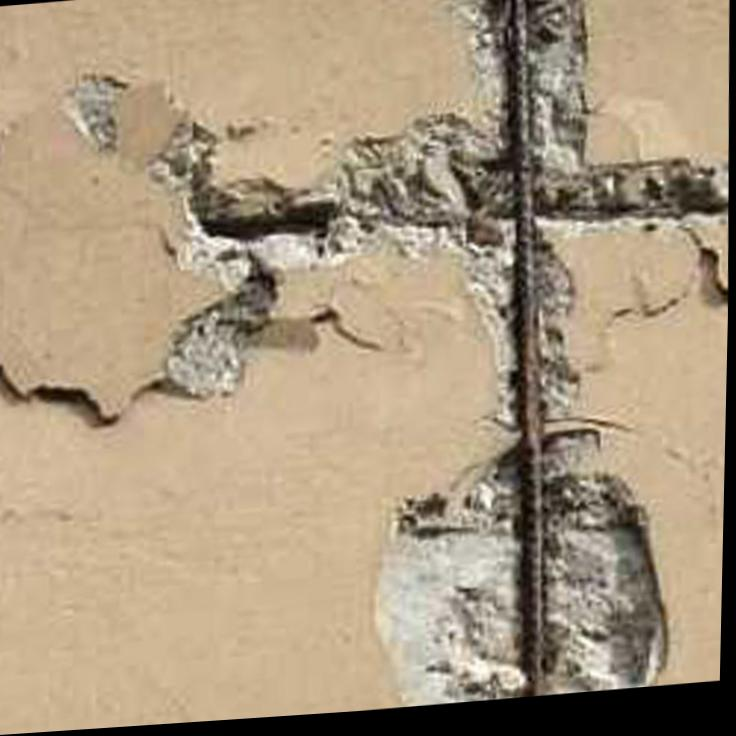crack: (492, 419, 652, 448), (613, 285, 698, 336), (311, 312, 388, 360)
damage: (0, 0, 730, 713)
